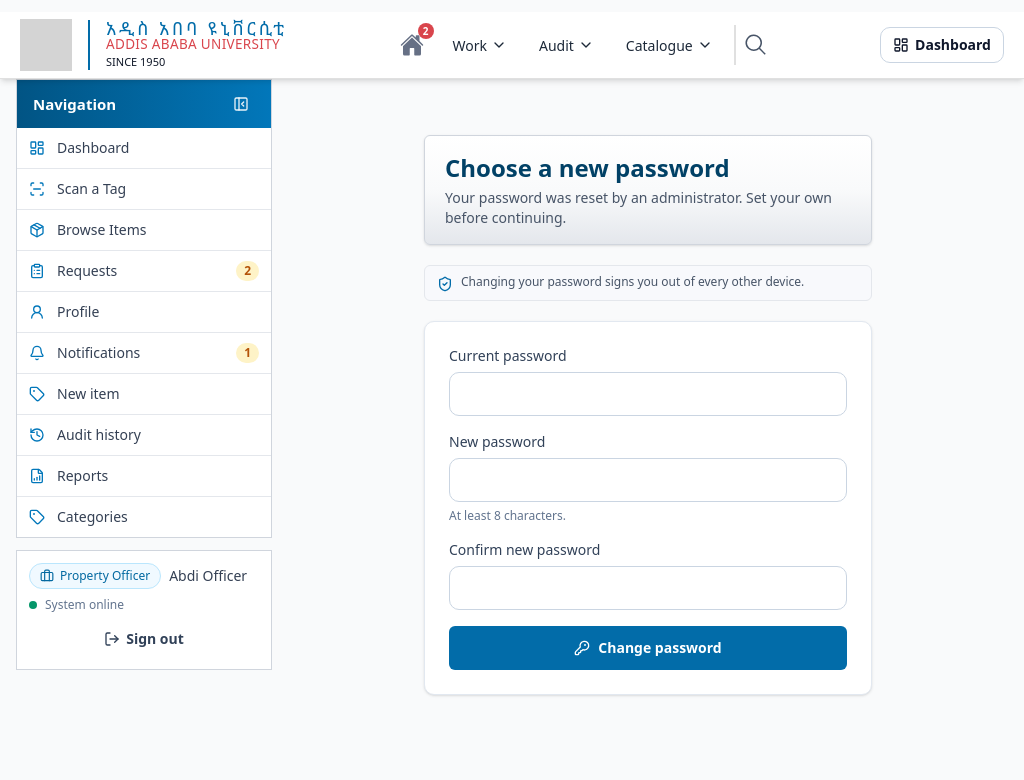
Scenario: forced password change › rejects the temporary password typed back in, before it reaches the server
This screenshot has width=1024, height=780.
Expected: the heading "Choose a new password" is shown, top-left (445, 151), bottom-right (730, 184)
Step 1. Type "TempPassword1" into the password field labelled "Current password" → (648, 394), box top-left (449, 372), bottom-right (847, 416)
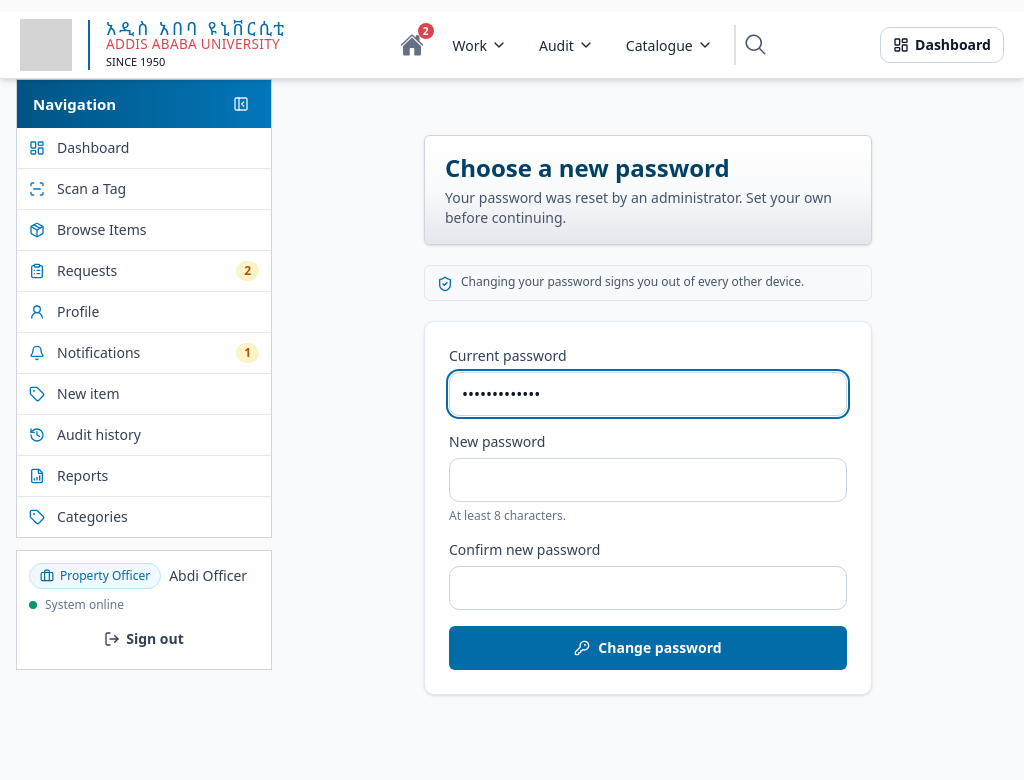
Step 2. Type "TempPassword1" into the password field labelled "New password" → (648, 480), box top-left (449, 458), bottom-right (847, 502)
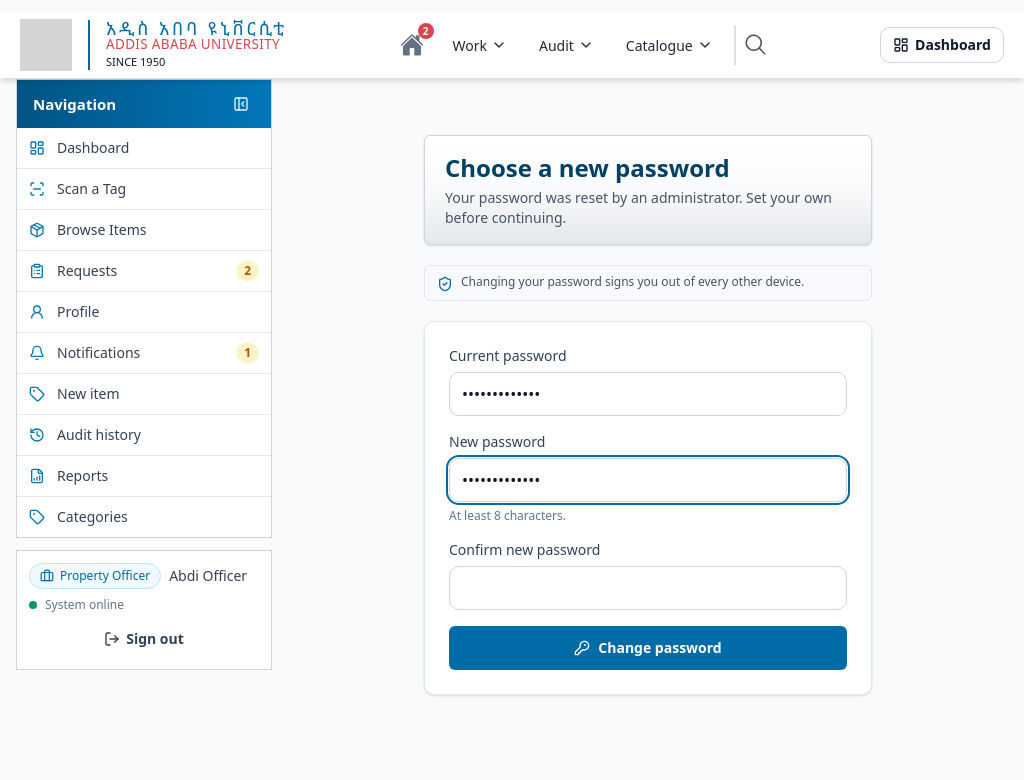
Step 3. Type "TempPassword1" into the password field labelled "Confirm new password" → (648, 588), box top-left (449, 566), bottom-right (847, 610)
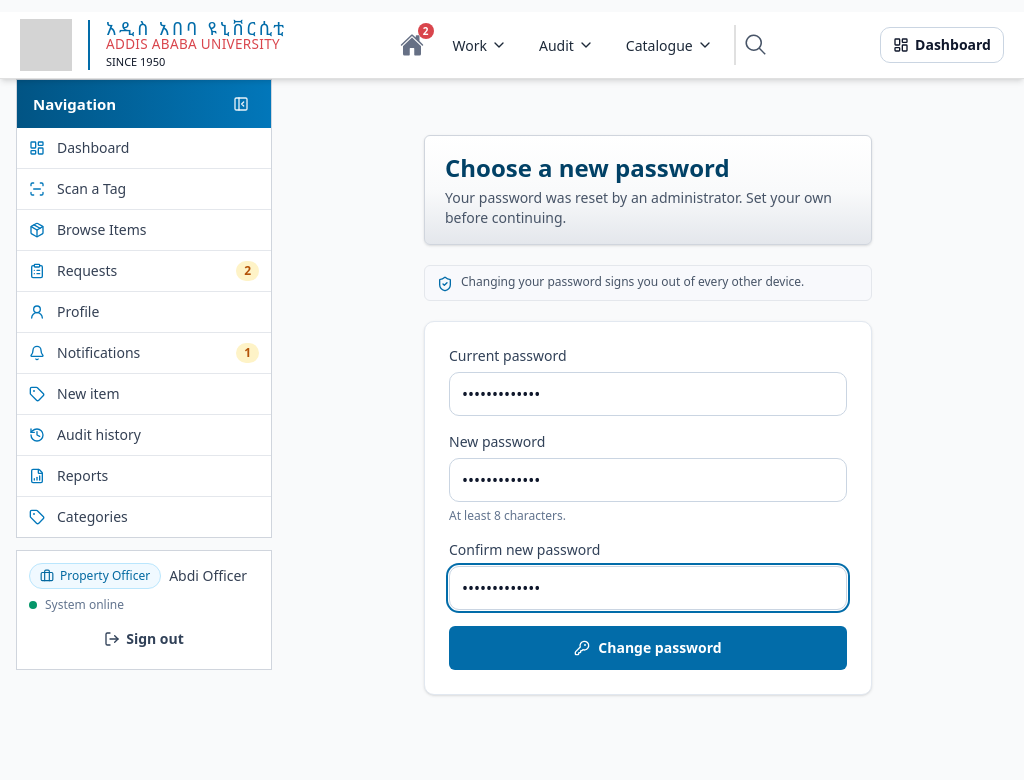
Step 4. Click the button "Change password" → (648, 648), box top-left (449, 626), bottom-right (847, 670)
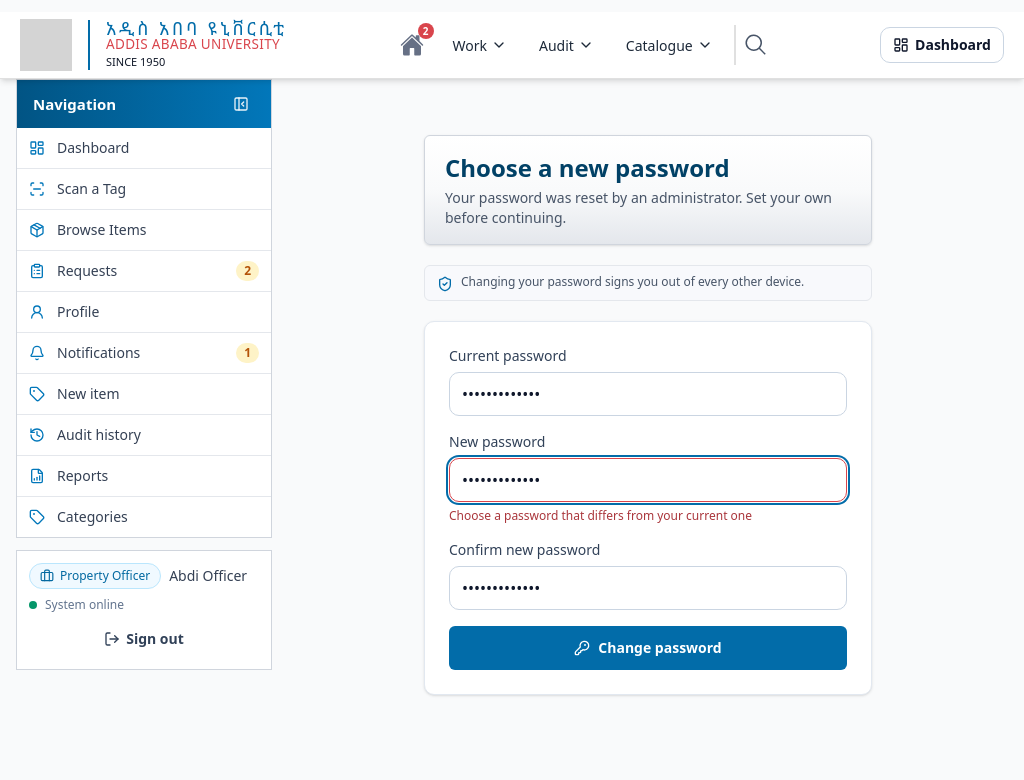
Result: the text "Choose a password that differs from your current one" is shown at top-left (449, 507), bottom-right (752, 524)
